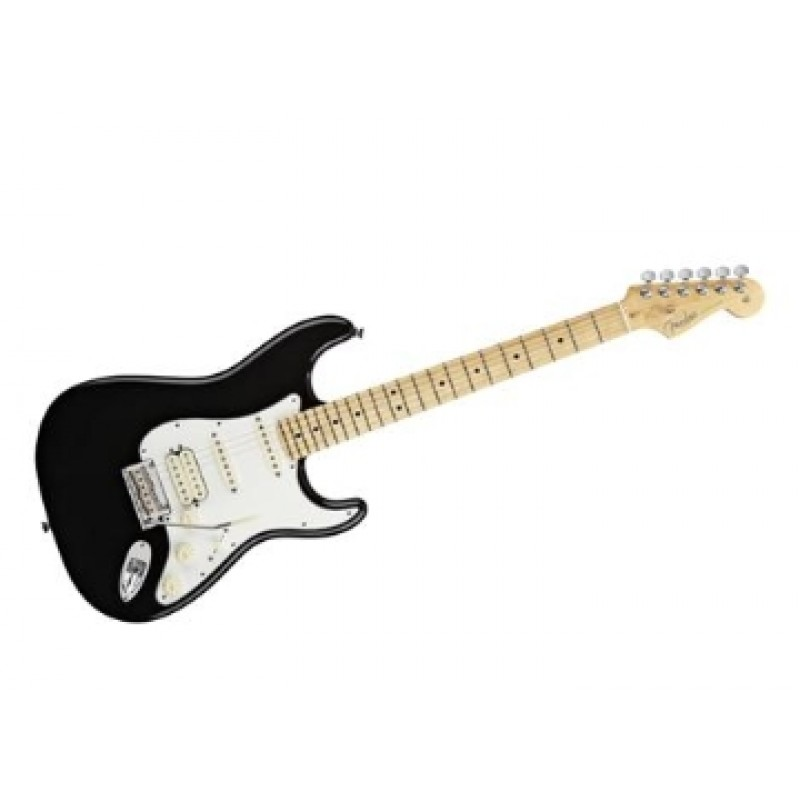ElectricGuitar: (33, 246, 777, 641)
